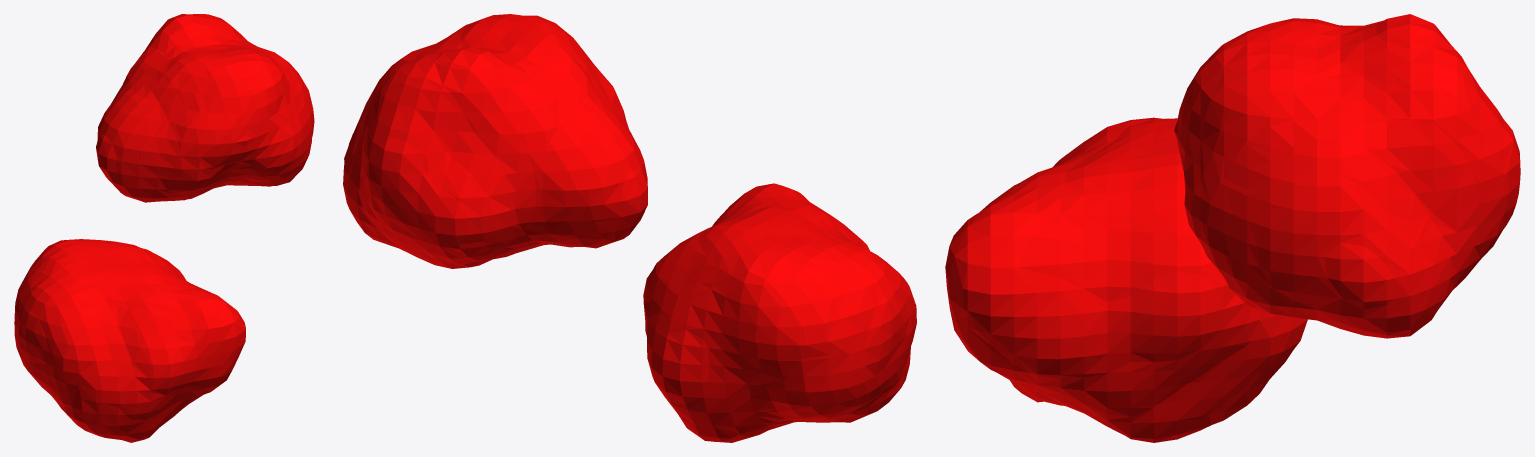
File: Ras_related_protein_Rab_21_coarse.dae
The picture shows the model from 3 angles, left to right: view 1: azimuth 30°, elevation 25°; view 2: azimuth 150°, elevation 25°; view 3: azimuth 270°, elevation 25°; orthographic projection. The views are drawn at different scales.
Visible parts, largest first — view 1: Ras_related_protein_Rab_21; view 2: Ras_related_protein_Rab_21; view 3: Ras_related_protein_Rab_21.
Part boxes in pixels (x1,y1,x2,y2): Ras_related_protein_Rab_21: [14, 14, 314, 442]; Ras_related_protein_Rab_21: [343, 14, 916, 442]; Ras_related_protein_Rab_21: [945, 14, 1520, 442].
Size of the model in its own units: 90.15 by 78.96 by 80.16.
